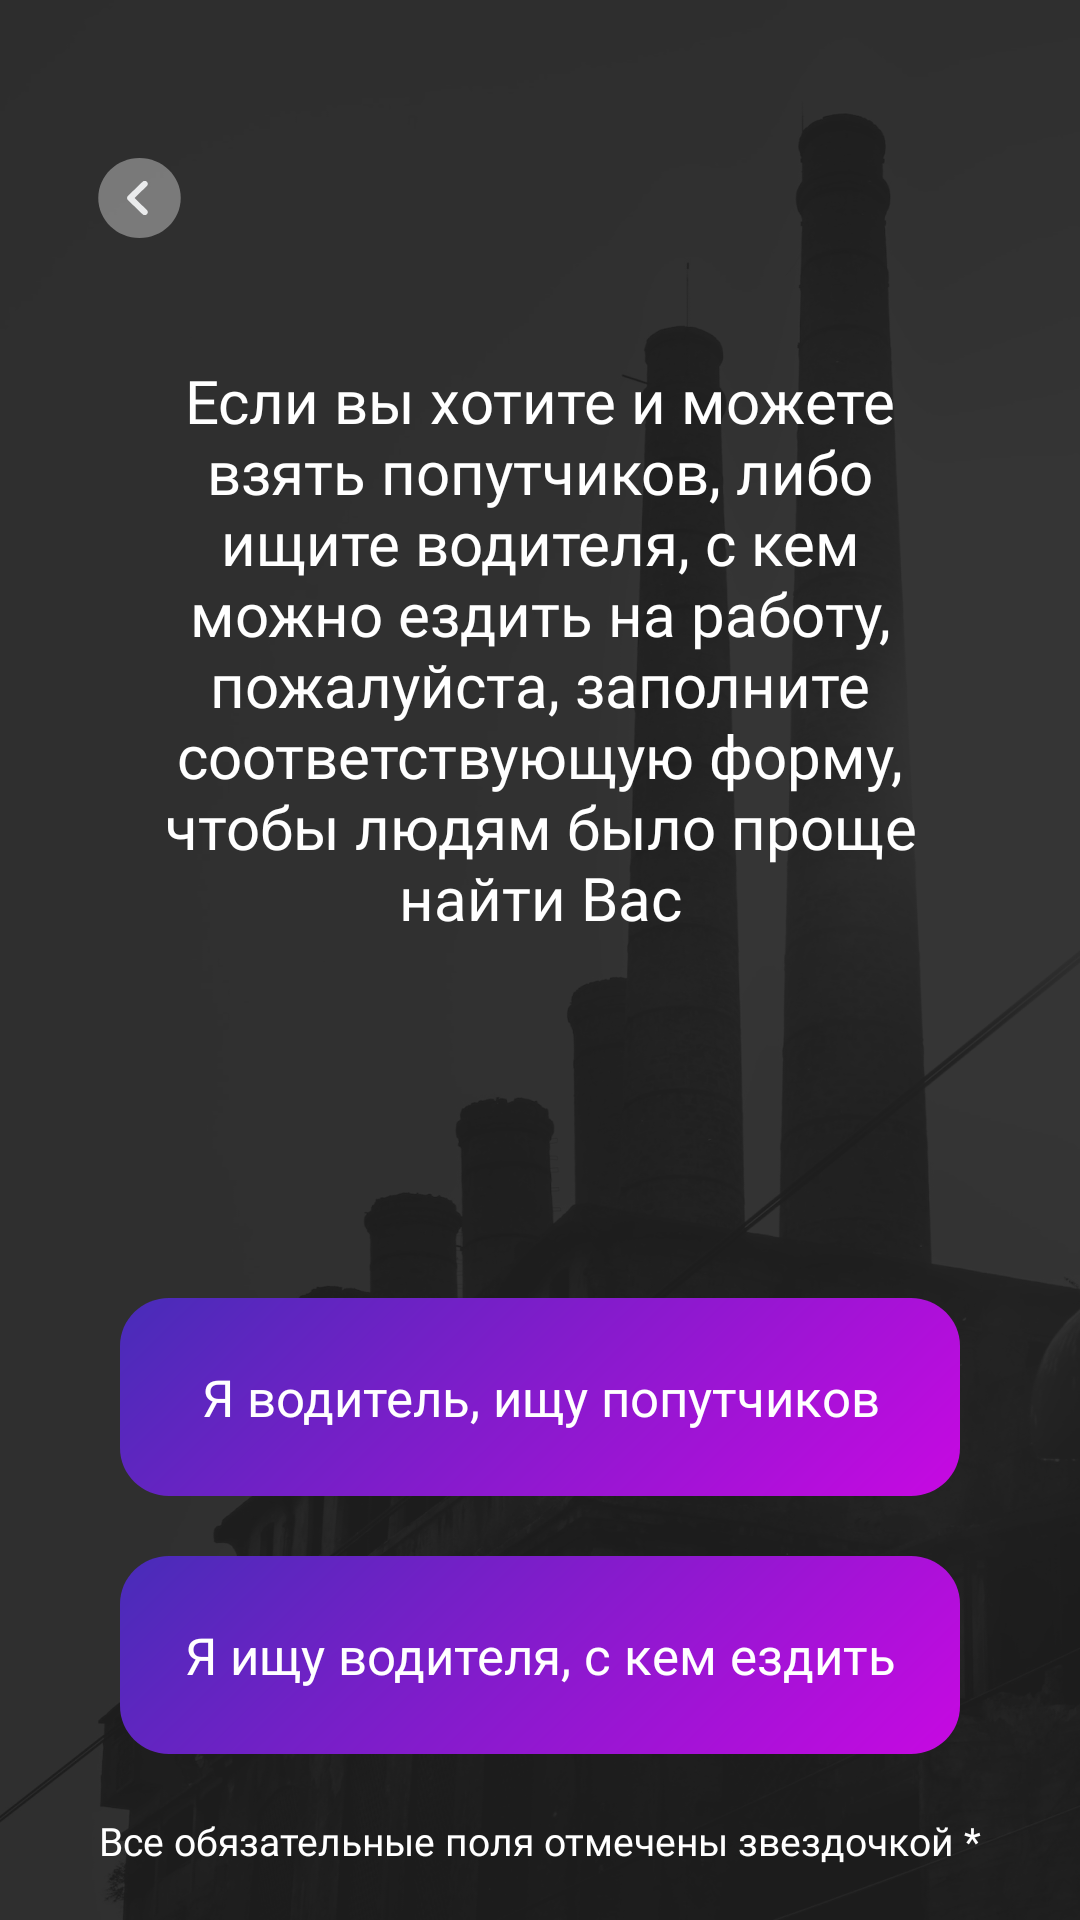

Where to tap for icons on this 1080*1920 app screen, as (x,y):
back: (139,198)
